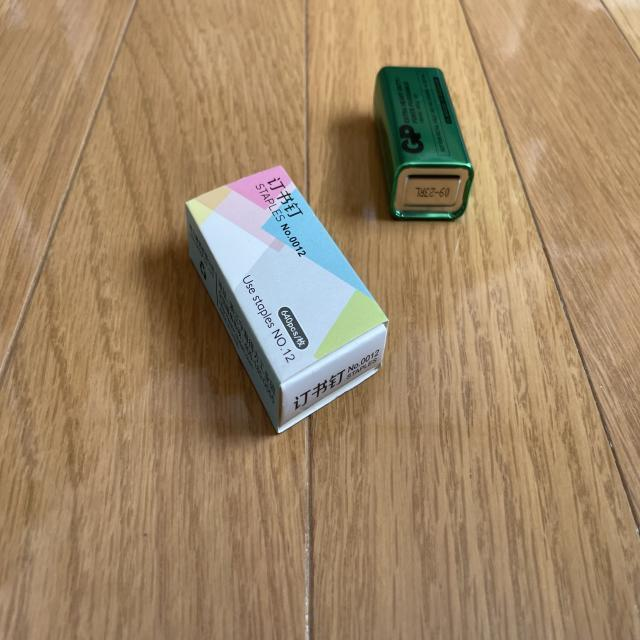9V: (375, 63, 474, 222)
